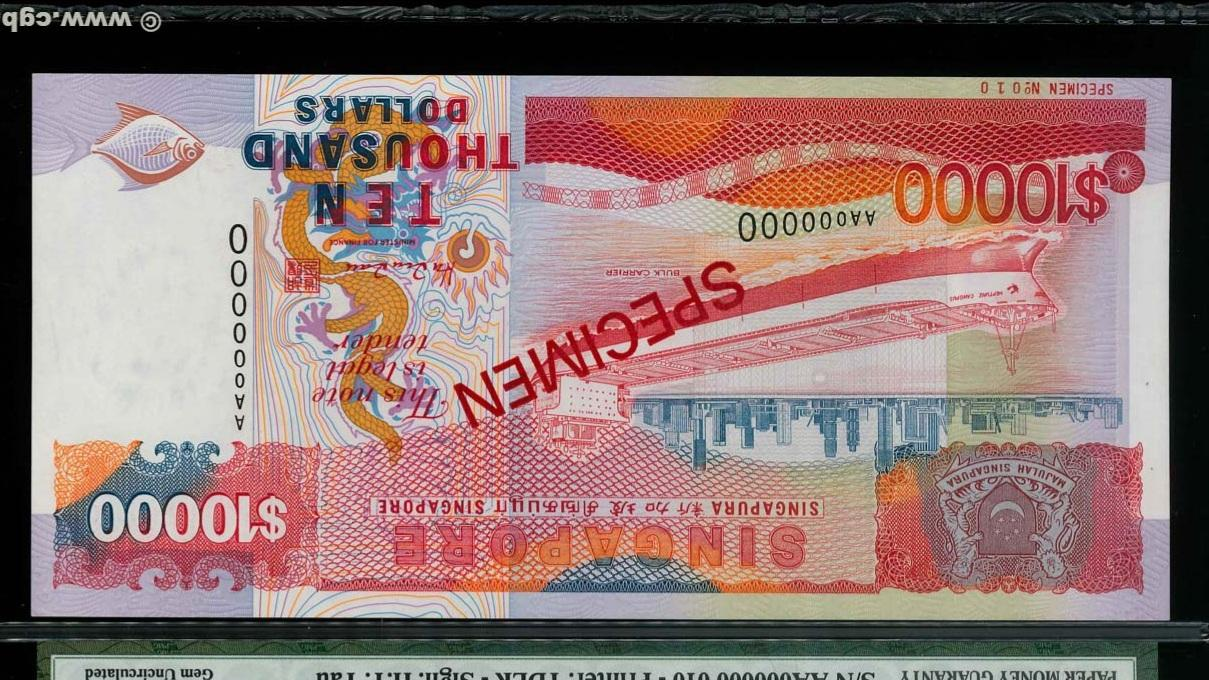10000SingaporeDollar: (31, 76, 1170, 616)
